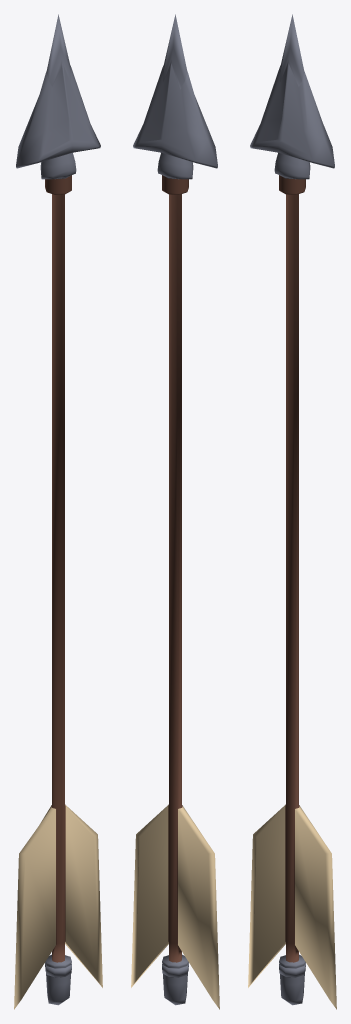
File: Arrow2.fbx
The picture shows the model from 3 angles, left to right: view 1: azimuth 30°, elevation 25°; view 2: azimuth 150°, elevation 25°; view 3: azimuth 330°, elevation 25°; orthographic projection.
Parts seen in each view (by area): view 1: Arrow_Bigger; view 2: Arrow_Bigger; view 3: Arrow_Bigger.
Boxes of the visible parts, x1,y1,x2,y2 form: Arrow_Bigger: (14, 14, 102, 1009); Arrow_Bigger: (131, 14, 219, 1009); Arrow_Bigger: (248, 14, 336, 1009).
Bounding box in the file's own units: 0.1021 × 0.0555 × 1.09.
